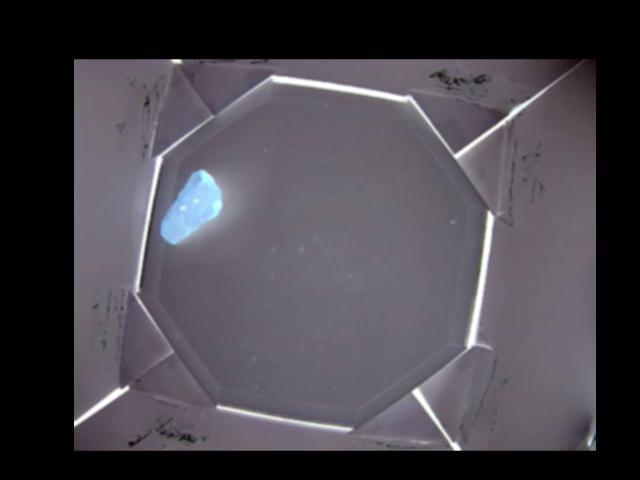Brisk: (158, 168, 223, 245)
